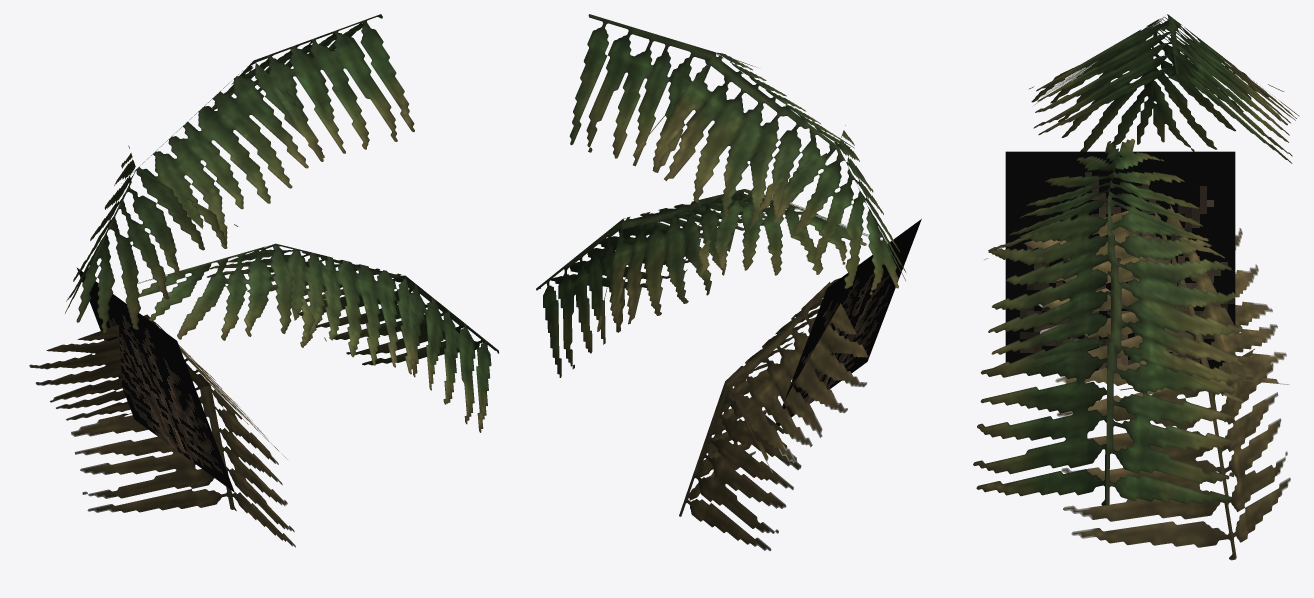
Rendered from caribbean_royal_palm_old_straight_1.obj.
3 renders of one model, left to right at view 1: azimuth 30°, elevation 25°; view 2: azimuth 150°, elevation 25°; view 3: azimuth 270°, elevation 25°, orthographic. The views are drawn at different scales.
Parts seen in each view (by area): view 1: cube.449; view 2: cube.449; view 3: cube.449.
Part boxes in pixels (x1,y1,x2,y2): cube.449: (29,14,498,547); cube.449: (536,14,921,550); cube.449: (973,14,1299,560).
Bounding box in the file's own units: 3.59 × 4.1 × 2.15.
